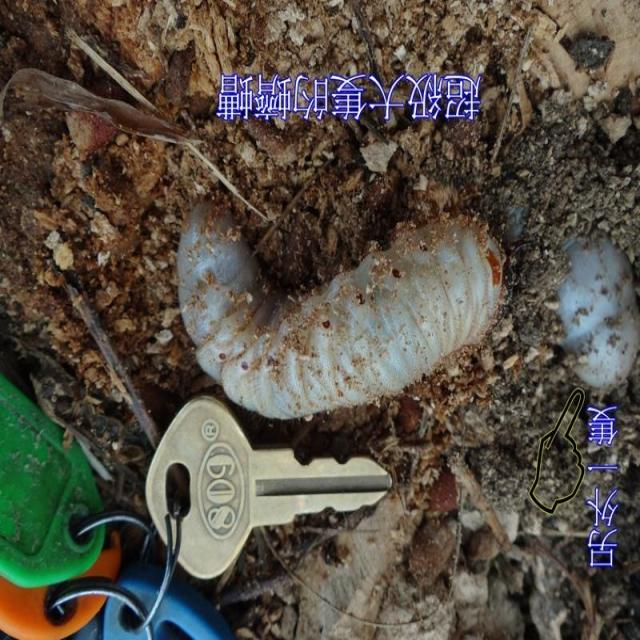grub: (151, 200, 516, 429)
